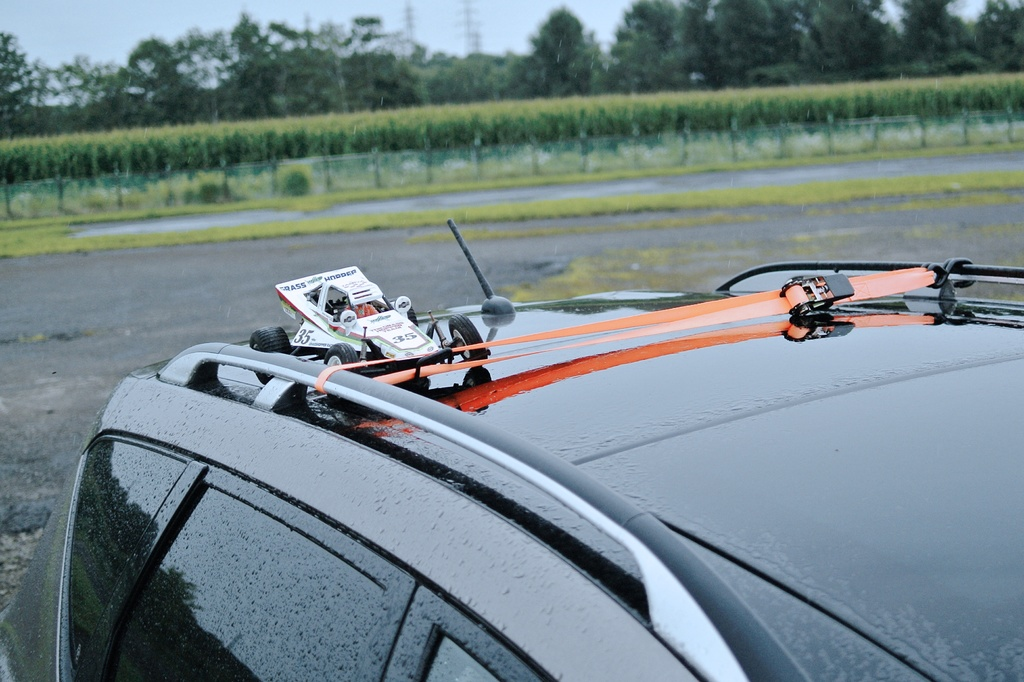Car: (0, 220, 1023, 681)
